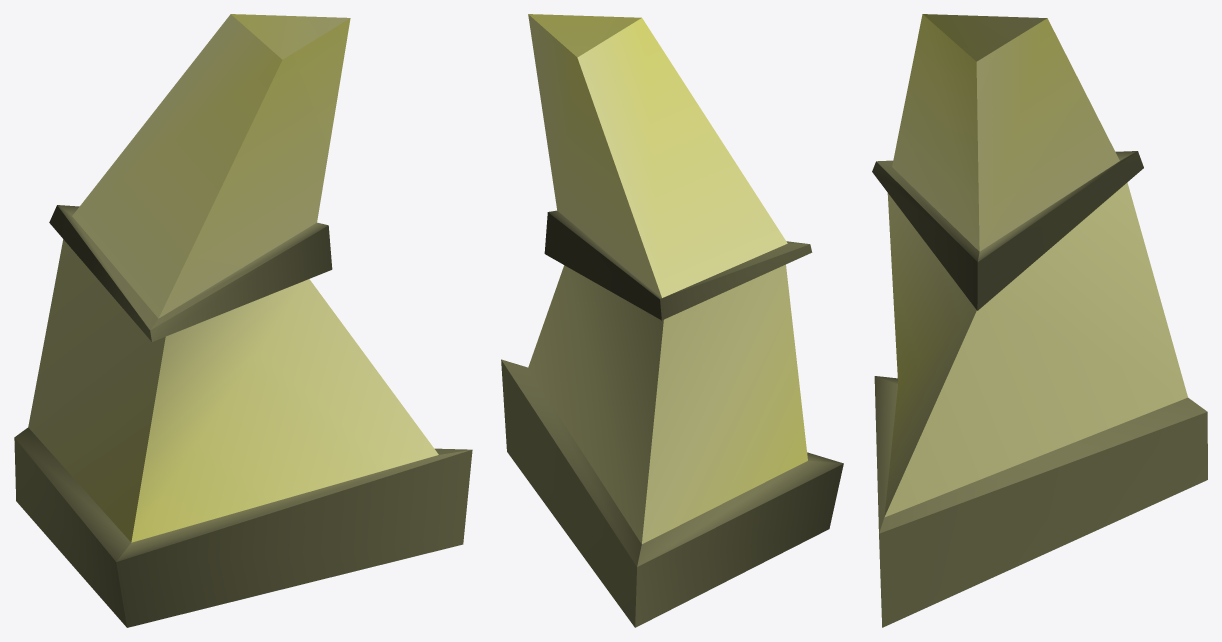
File: c_tower_body_triangle_ac.fbx
3 views of the same model, side by side, from view 1: azimuth 30°, elevation 25°; view 2: azimuth 150°, elevation 25°; view 3: azimuth 270°, elevation 25° (orthographic). The views are drawn at different scales.
Parts seen in each view (by area): view 1: c_tower_body_triangle_ac; view 2: c_tower_body_triangle_ac; view 3: c_tower_body_triangle_ac.
Part boxes in pixels (x1=…): c_tower_body_triangle_ac: x1=14, y1=14, x2=472, y2=627; c_tower_body_triangle_ac: x1=501, y1=14, x2=843, y2=627; c_tower_body_triangle_ac: x1=872, y1=14, x2=1207, y2=627.
Bounding box in the file's own units: 7.15 × 9.72 × 5.57.
